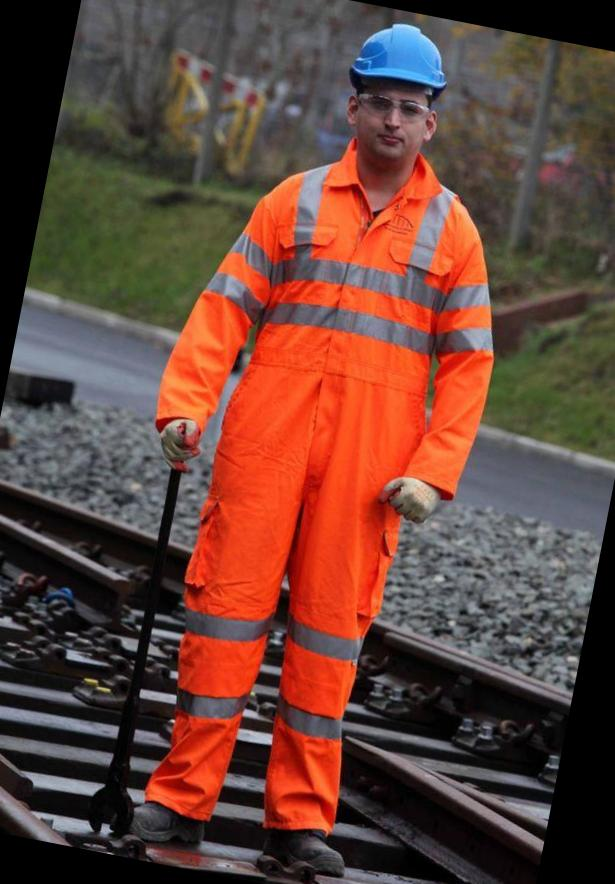Vest: (185, 143, 516, 589)
